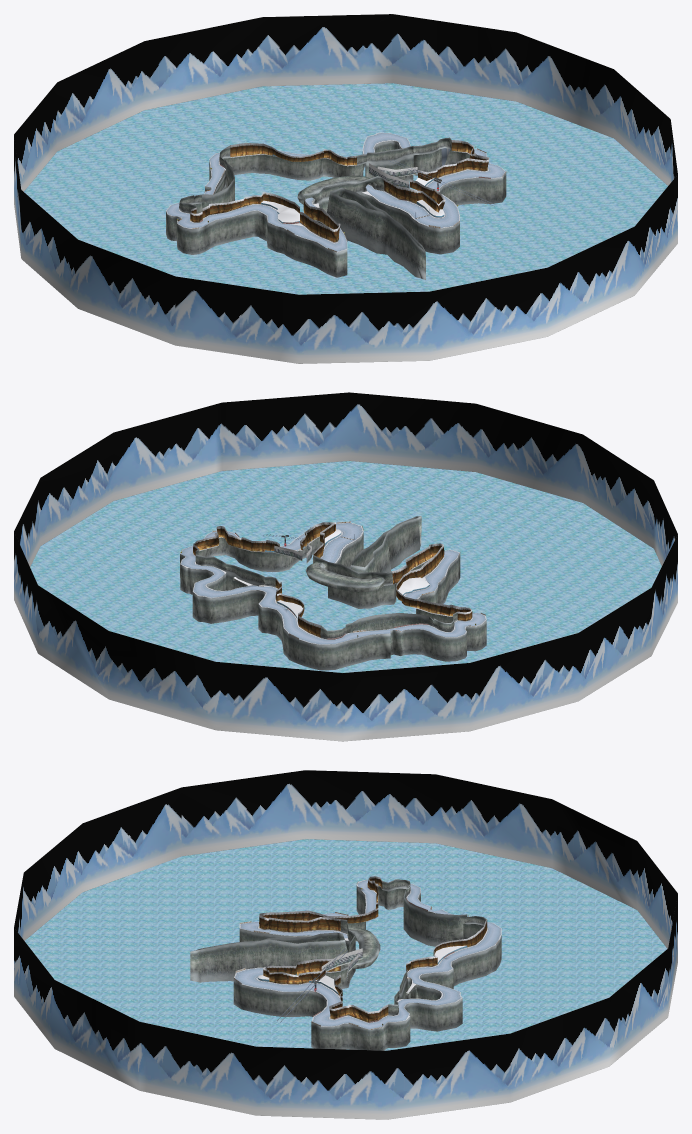
3 renders of one model, top to bottom at view 1: azimuth 30°, elevation 25°; view 2: azimuth 150°, elevation 25°; view 3: azimuth 270°, elevation 25°, orthographic.
Visible parts, largest first — view 1: colorado-SKP--mountains, colorado-SKP--ice, colorado-SKP--rock4, colorado-SKP--rock3, colorado-SKP--snow_road, colorado-SKP--snow_off_road, colorado-SKP--forest; view 2: colorado-SKP--mountains, colorado-SKP--ice, colorado-SKP--rock4, colorado-SKP--snow_road, colorado-SKP--rock3, colorado-SKP--snow_off_road; view 3: colorado-SKP--mountains, colorado-SKP--ice, colorado-SKP--rock4, colorado-SKP--snow_road, colorado-SKP--rock3.
Part boxes in pixels (<box>): colorado-SKP--mountains: <box>14,14,677,363</box>; colorado-SKP--ice: <box>24,83,667,294</box>; colorado-SKP--rock4: <box>166,137,506,279</box>; colorado-SKP--rock3: <box>190,140,489,242</box>; colorado-SKP--snow_road: <box>166,132,505,252</box>; colorado-SKP--snow_off_road: <box>261,177,444,225</box>; colorado-SKP--forest: <box>369,163,417,188</box>; colorado-SKP--mountains: <box>14,392,677,741</box>; colorado-SKP--ice: <box>30,461,661,672</box>; colorado-SKP--rock4: <box>180,516,486,670</box>; colorado-SKP--snow_road: <box>180,522,486,644</box>; colorado-SKP--rock3: <box>193,522,472,637</box>; colorado-SKP--snow_off_road: <box>182,529,429,619</box>; colorado-SKP--mountains: <box>14,770,677,1119</box>; colorado-SKP--ice: <box>25,839,666,1050</box>; colorado-SKP--rock4: <box>190,879,501,1050</box>; colorado-SKP--snow_road: <box>234,879,501,1029</box>; colorado-SKP--rock3: <box>259,876,487,1022</box>.
Size of the model in its own units: 17427 by 2523 by 17427.
18 materials, 18 textured.
